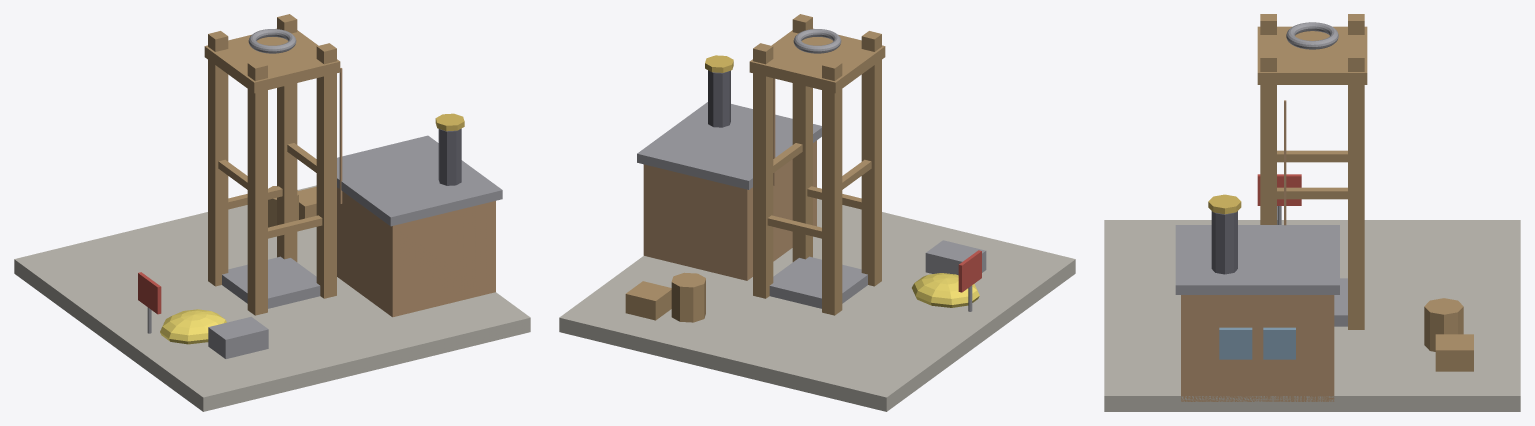
The model's file is gold_mine.glb.
3 views of the same model, side by side, from view 1: azimuth 30°, elevation 25°; view 2: azimuth 150°, elevation 25°; view 3: azimuth 270°, elevation 25° (orthographic). The views are drawn at different scales.
Visible parts, largest first — view 1: GoldMine; view 2: GoldMine; view 3: GoldMine.
Part boxes in pixels (box(x1,y1,x2,y2)): GoldMine: box(14, 14, 530, 411); GoldMine: box(559, 14, 1075, 411); GoldMine: box(1104, 14, 1520, 411).
Bounding box in the file's own units: 3.85 × 2.95 × 3.8.
